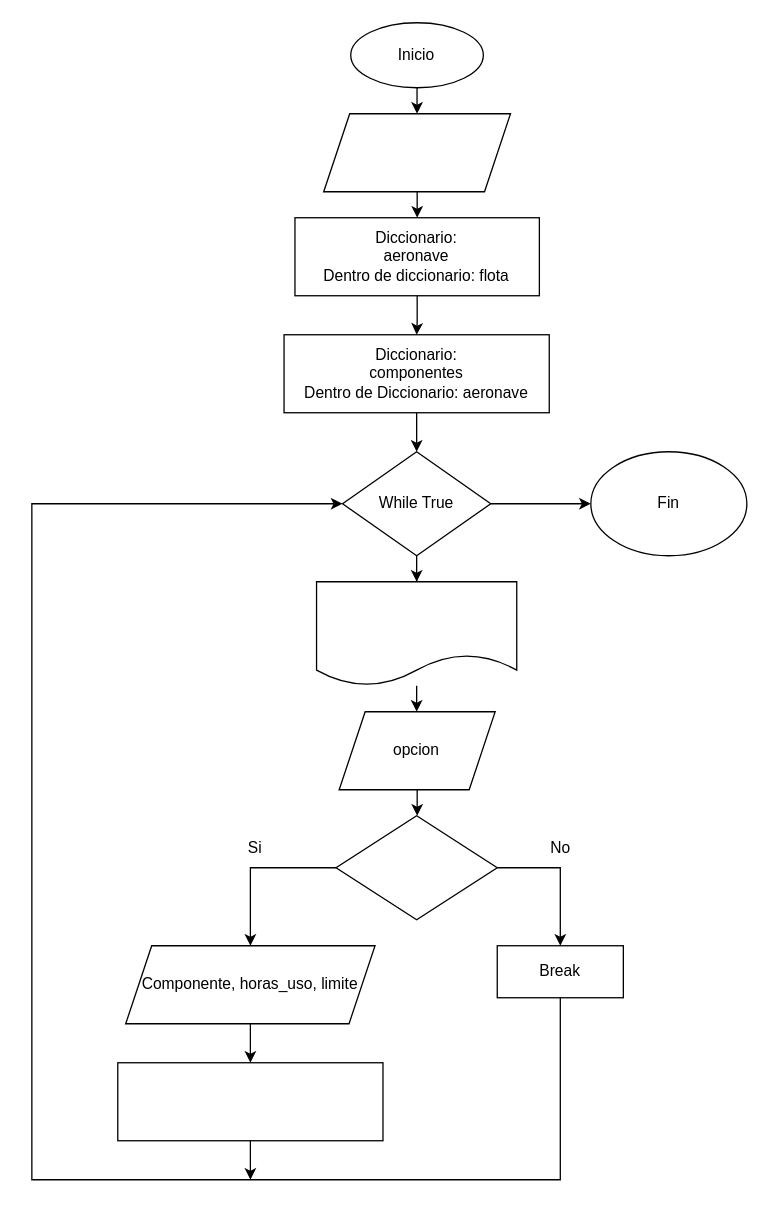
Image size: 770x1213. Some labels were removed from this diagram. The shapes that lost their labels are listed below. From the top down, each one's centre as x and y in pixels, then its label:
(416,152): maticula, modelo, horas_vuelo
(416,633): 1. Agregar componente 2. Salir
(416,867): Si opcion == 1
(249,1101): Lista: componentes Dentro de Diccionario: comonentes
